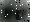person: (14, 8, 21, 20)
